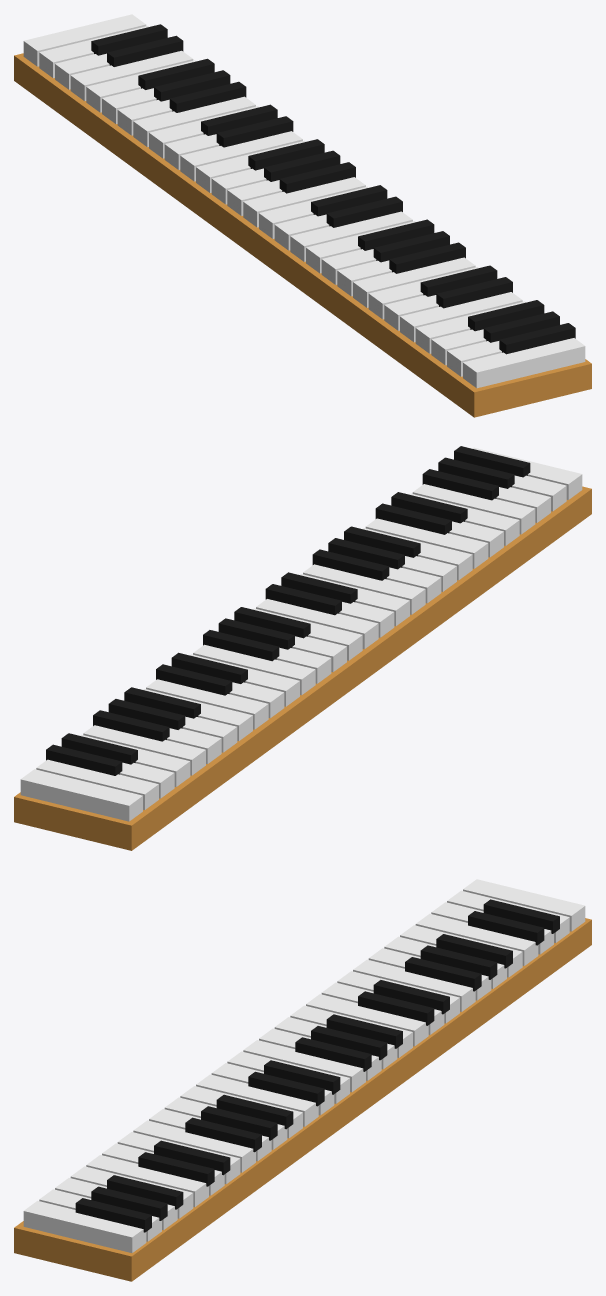
Rendered from instruments-yamaha-upright-piano-d33de87a20.glb.
3 views of the same model, one above another, from view 1: azimuth 30°, elevation 25°; view 2: azimuth 150°, elevation 25°; view 3: azimuth 330°, elevation 25° (orthographic).
Visible parts, largest first — view 1: Node; view 2: Node; view 3: Node.
Boxes of the visible parts, bbox=[...] form: Node: bbox=[14, 14, 591, 417]; Node: bbox=[14, 446, 591, 850]; Node: bbox=[14, 879, 591, 1281].
Bounding box in the file's own units: 0.39 × 0.16 × 2.64.
